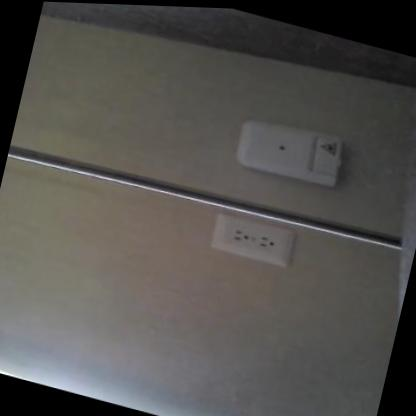OUTLET: (207, 210, 295, 268)
